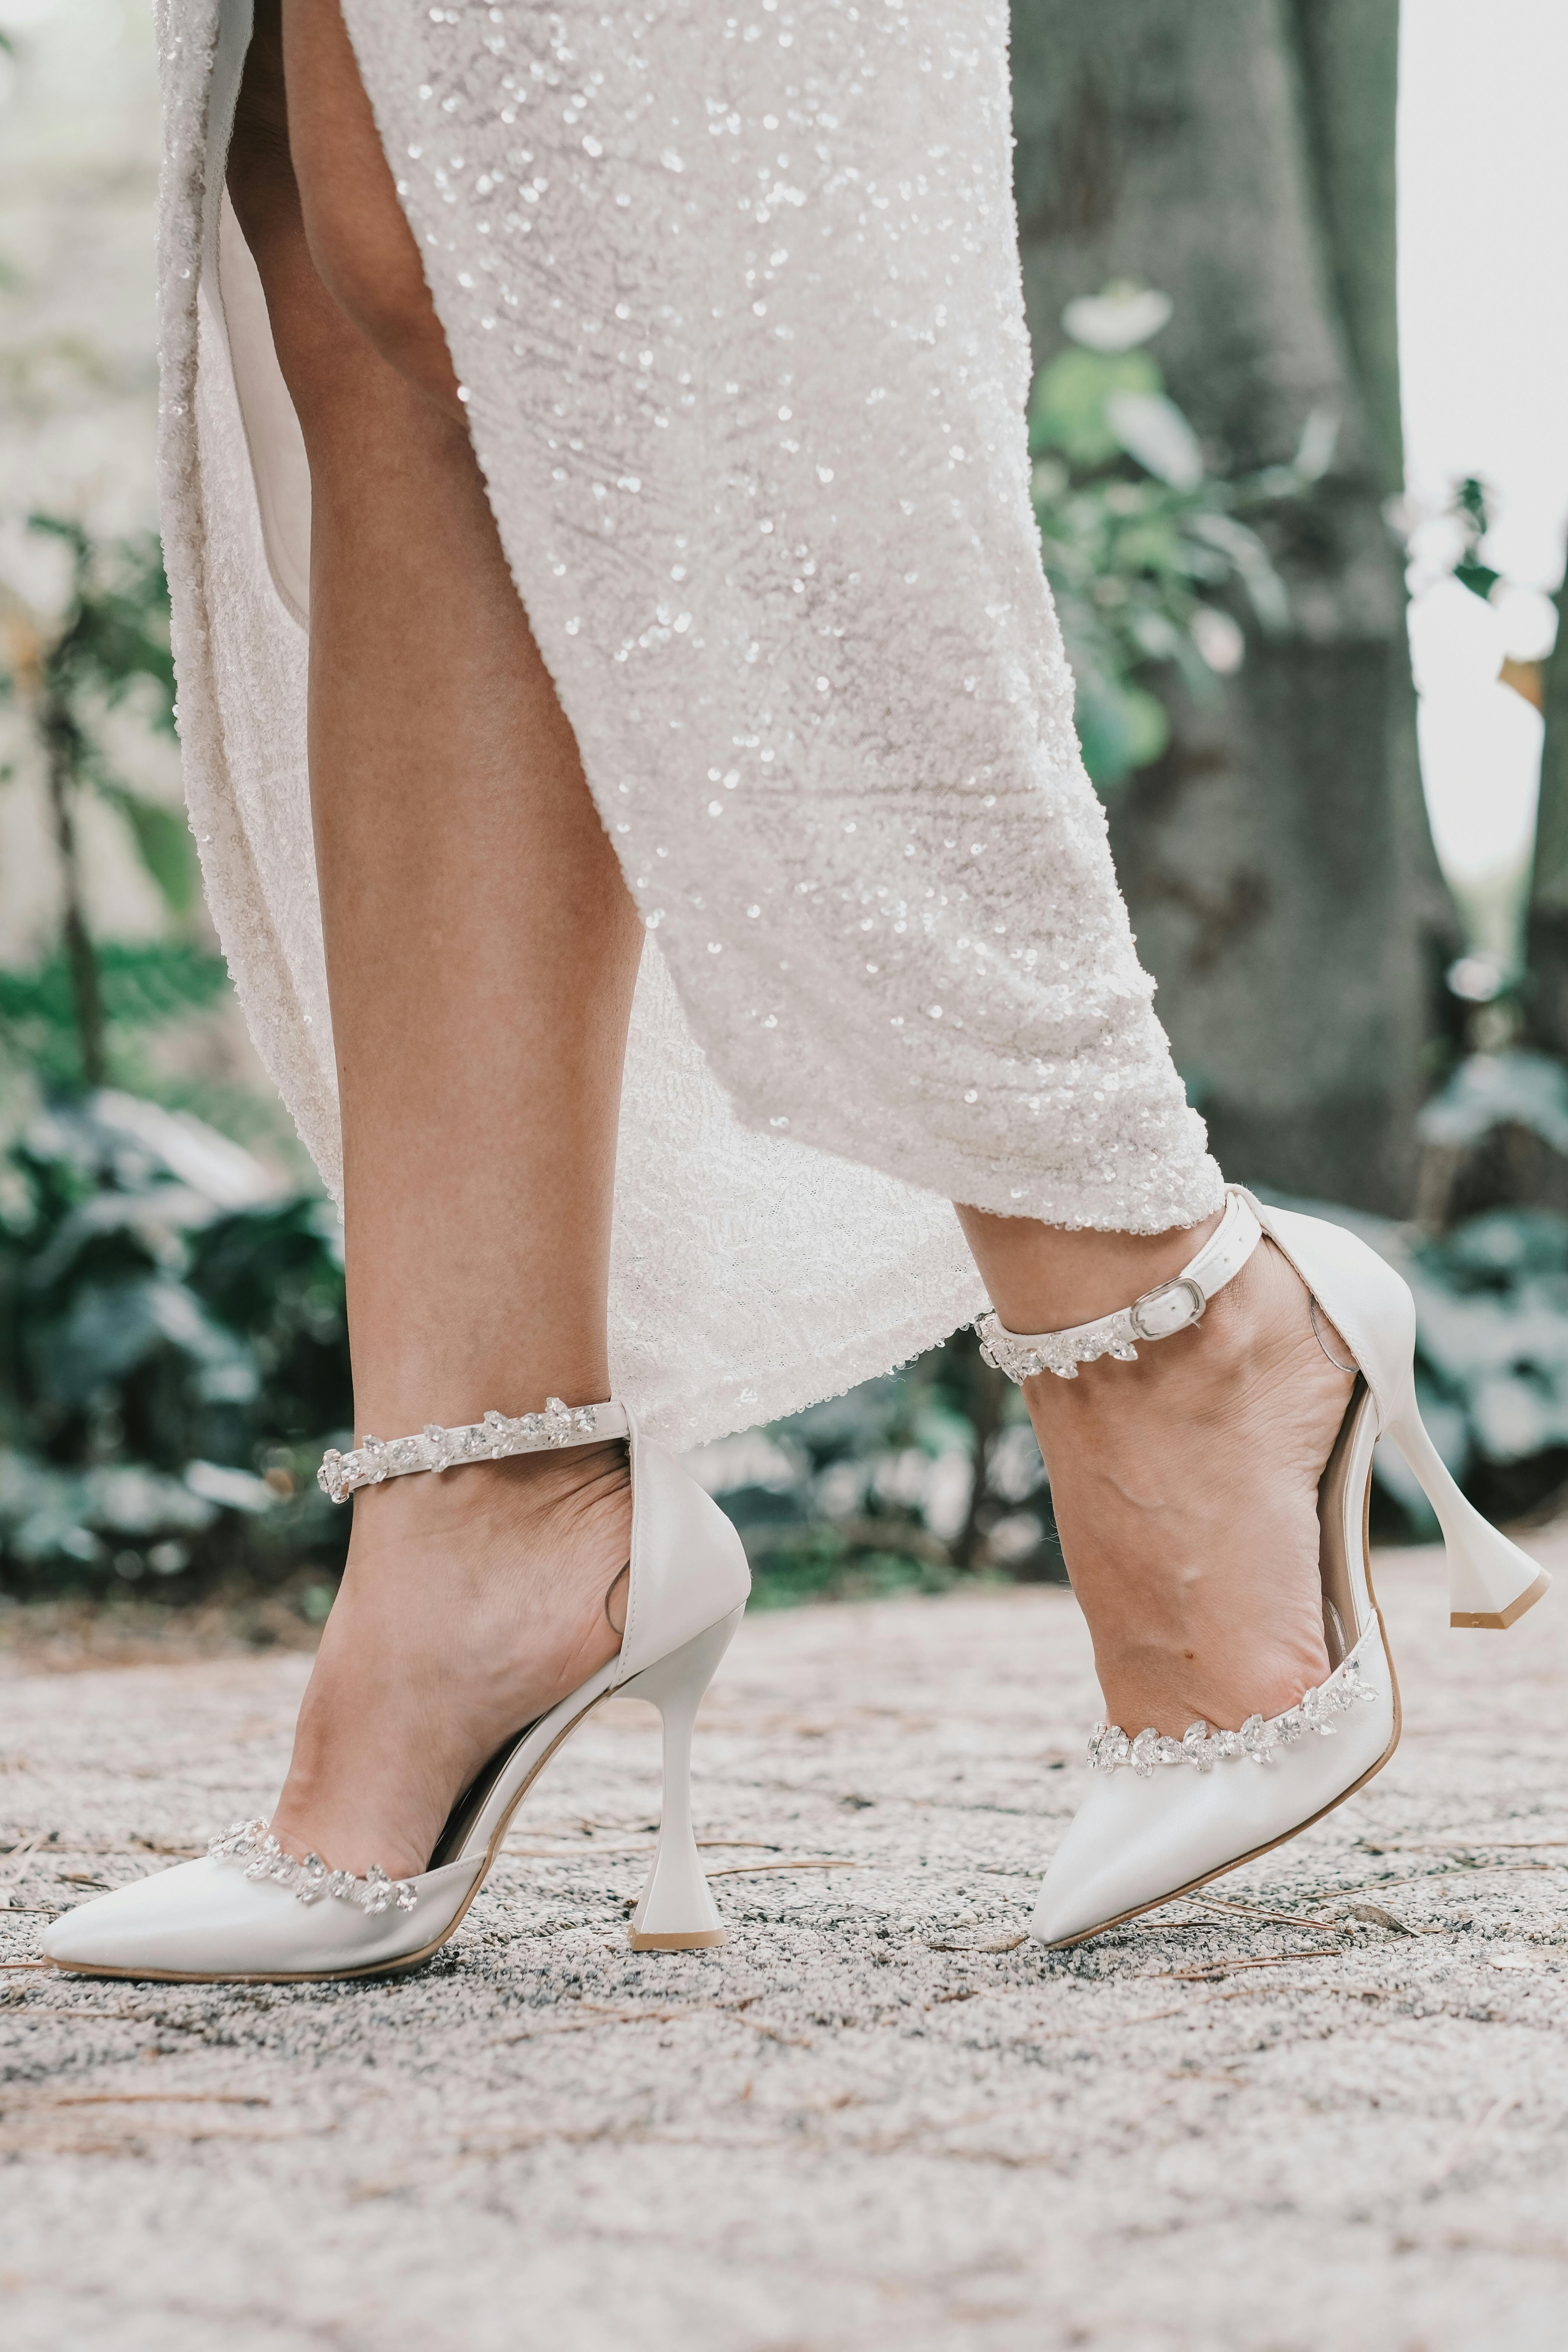Footwear: (28, 1365, 775, 2009), (929, 1221, 1544, 1934)
